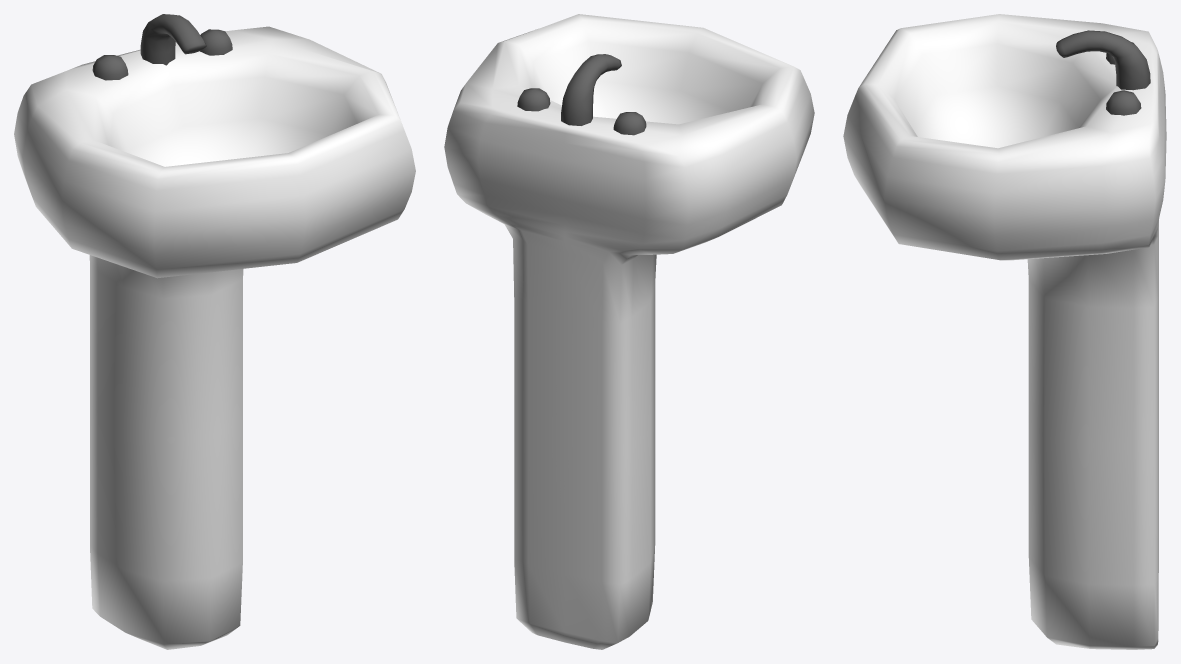
Rendered from Sink.fbx.
3 renders of one model, left to right at view 1: azimuth 30°, elevation 25°; view 2: azimuth 150°, elevation 25°; view 3: azimuth 270°, elevation 25°, orthographic. The views are drawn at different scales.
Parts seen in each view (by area): view 1: Toilet; view 2: Toilet; view 3: Toilet.
Part boxes in pixels (<box>): Toilet: <box>14,14,415,649</box>; Toilet: <box>444,14,814,649</box>; Toilet: <box>843,14,1166,649</box>.
Bounding box in the file's own units: 109 × 190 × 92.58.
1 material, 1 textured.
